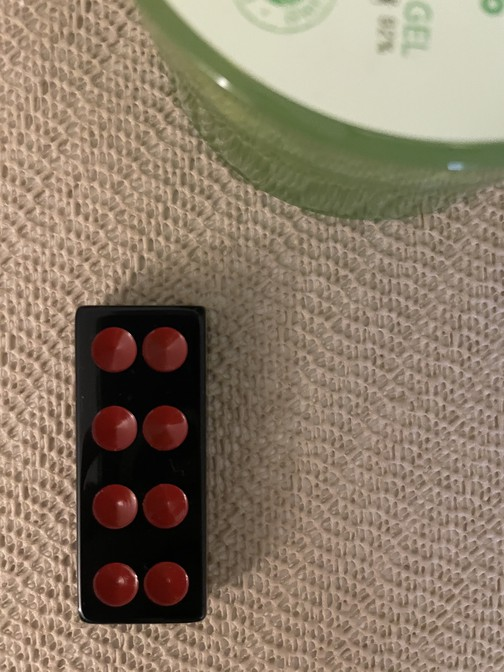man: (75, 305, 205, 624)
